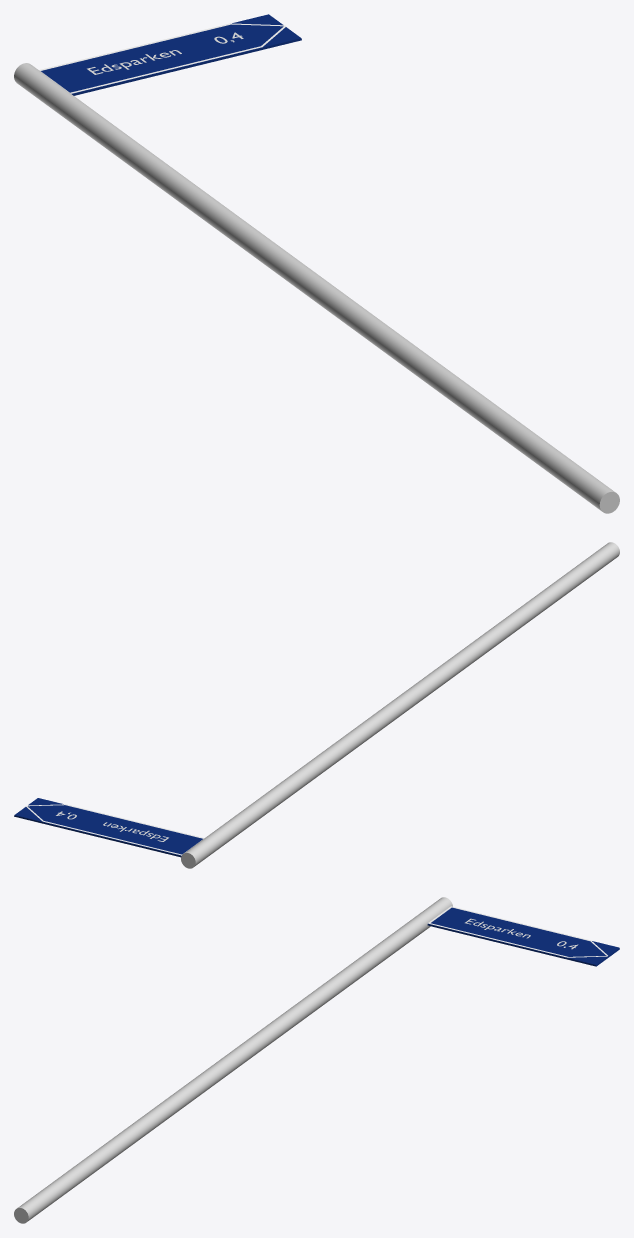
The model's file is sign.fbx.
3 views of the same model, one above another, from view 1: azimuth 30°, elevation 25°; view 2: azimuth 150°, elevation 25°; view 3: azimuth 330°, elevation 25° (orthographic). The views are drawn at different scales.
Visible parts, largest first — view 1: Cylinder, Plane.001, Plane.002; view 2: Cylinder, Plane.001, Plane.002; view 3: Cylinder, Plane.001, Plane.002.
Part boxes in pixels (x1=…): Cylinder: x1=14, y1=63, x2=619, y2=513; Plane.001: x1=41, y1=14, x2=301, y2=95; Plane.002: x1=39, y1=23, x2=286, y2=93; Cylinder: x1=181, y1=542, x2=619, y2=868; Plane.001: x1=14, y1=798, x2=202, y2=857; Plane.002: x1=25, y1=804, x2=204, y2=855; Cylinder: x1=14, y1=897, x2=452, y2=1223; Plane.001: x1=427, y1=907, x2=619, y2=966; Plane.002: x1=427, y1=906, x2=607, y2=957.
Bounding box in the file's own units: 1.03 × 0.0829 × 4.12.
